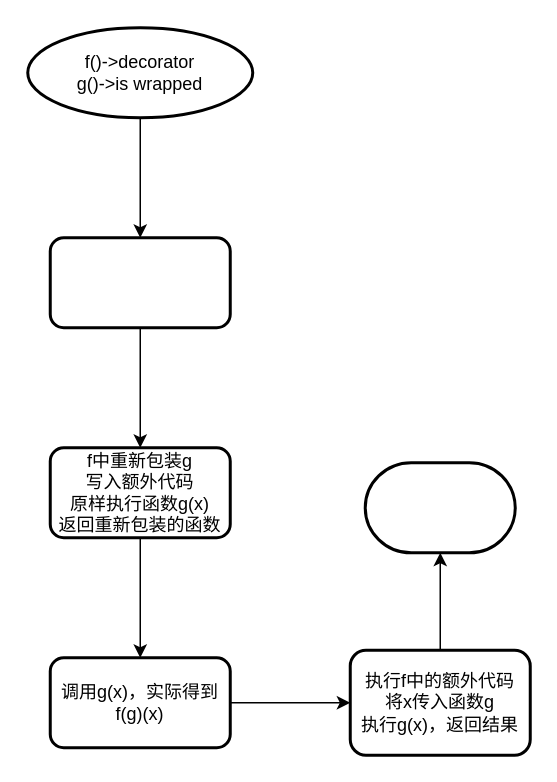
This 557x782 diagram has some shape labels left out. Each missing label, with the box of its shape:
g传入f: f(g): (48, 236, 231, 328)
结束: (363, 460, 516, 554)
